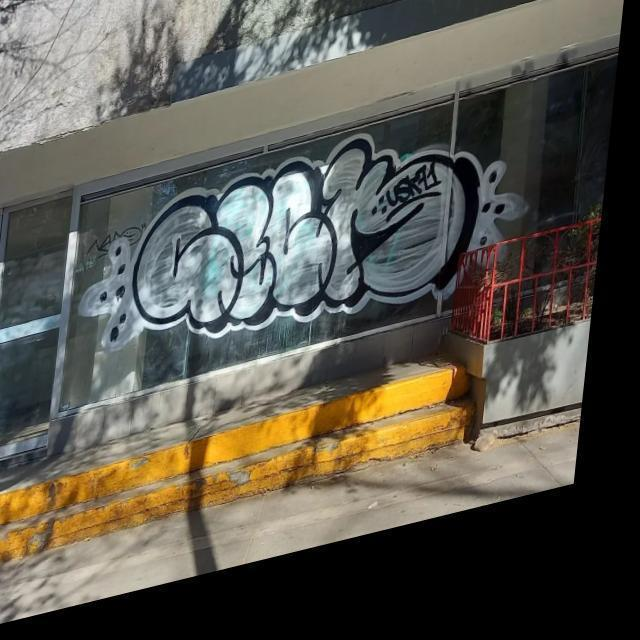nonspitting: (98, 139, 505, 345)
